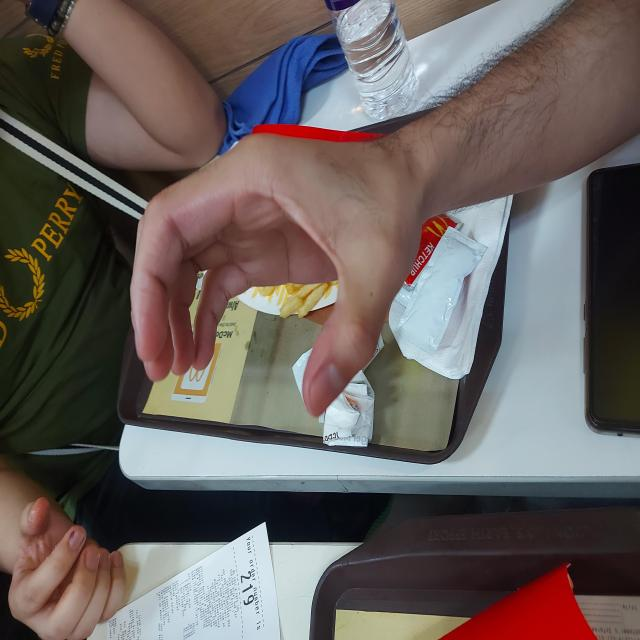C: (222, 127, 511, 425)
